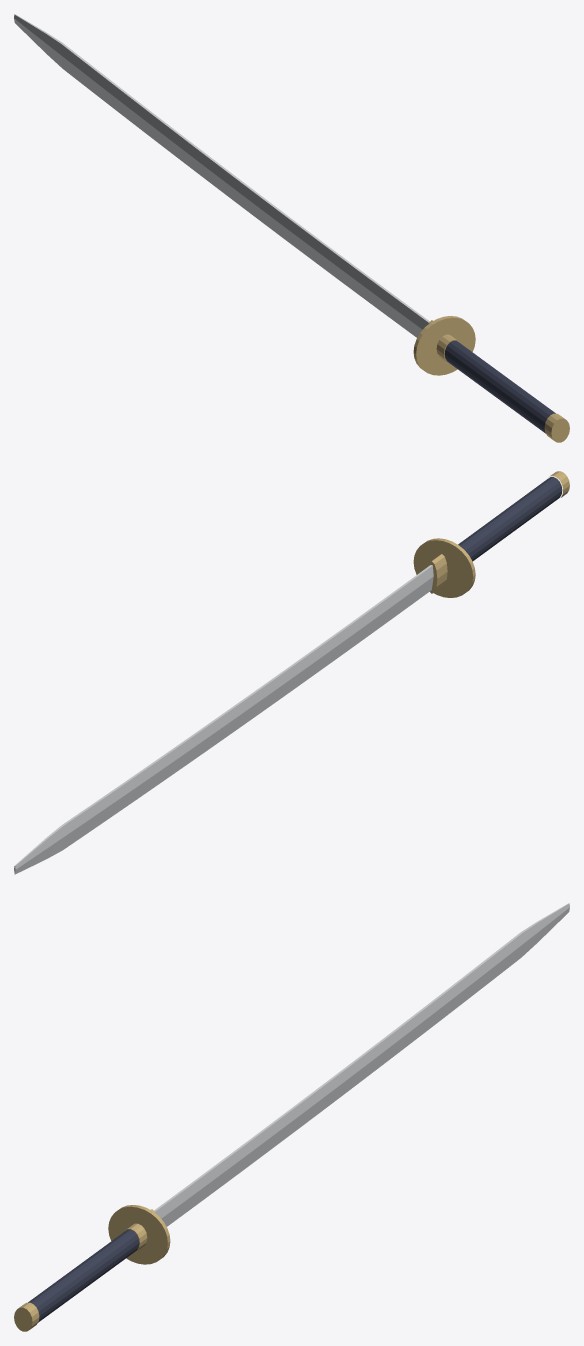
Rendered from gun_katana.glb.
3 renders of one model, top to bottom at view 1: azimuth 30°, elevation 25°; view 2: azimuth 150°, elevation 25°; view 3: azimuth 330°, elevation 25°, orthographic.
Parts seen in each view (by area): view 1: katana; view 2: katana; view 3: katana.
Part boxes in pixels (x1,y1,x2,y2): katana: (14,14,569,442); katana: (14,471,569,874); katana: (14,903,569,1331).
Bounding box in the file's own units: 0.08 × 0.072 × 1.27.
